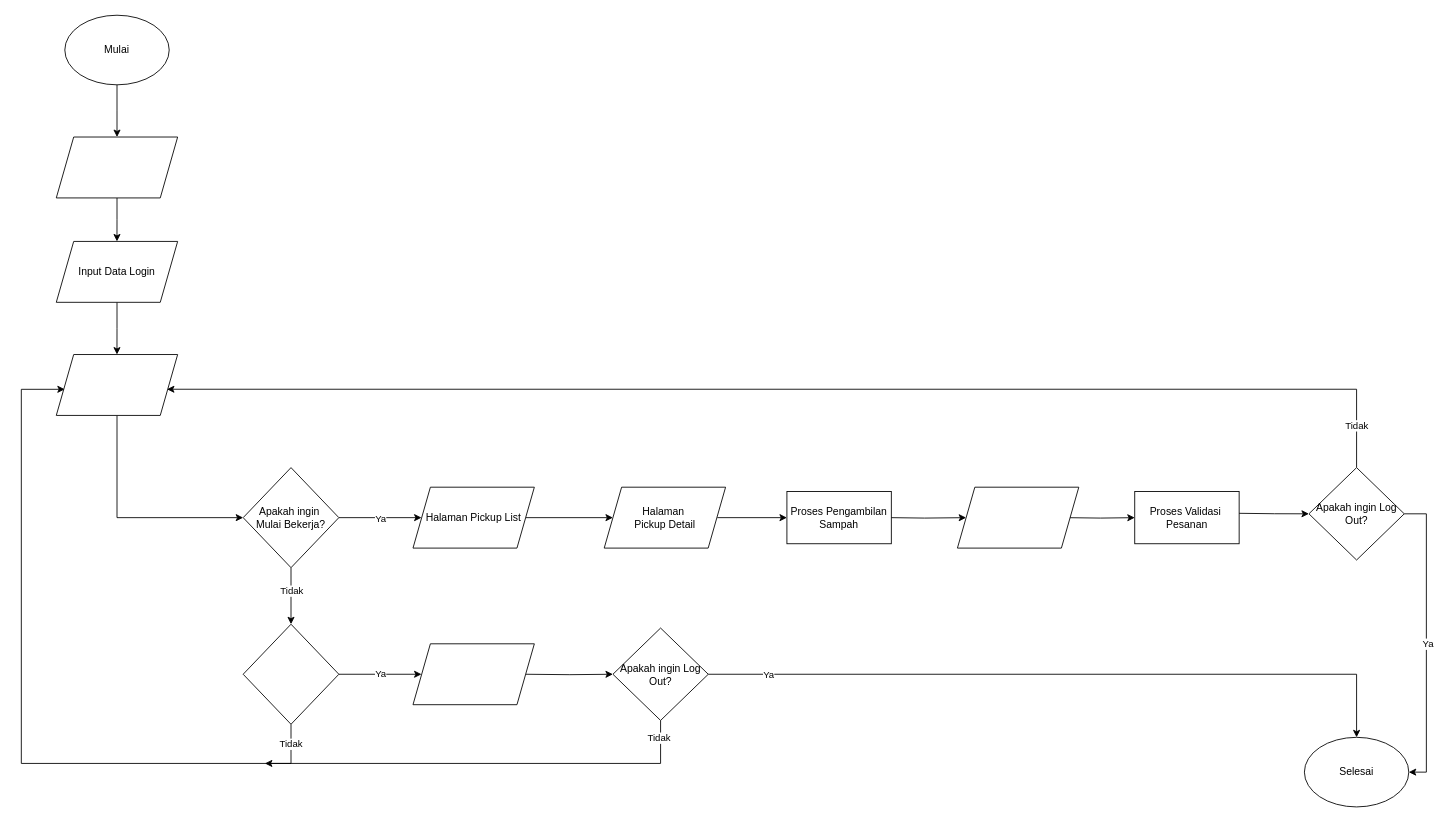
The diagram is 1449 pixels wide and 822 high, and some of its shapes have lost their labels. Here are the shapes that lost their labels. From the top down, the centre of each, then its label:
At point 116,167: "Halaman Login".
At point 116,384: "Halaman Dashboard User".
At point 1018,517: "Halaman Validasi Pesanan".
At point 290,673: "Apakah ingin Melihat History Pengantaran?".
At point 473,674: "Halaman History".
